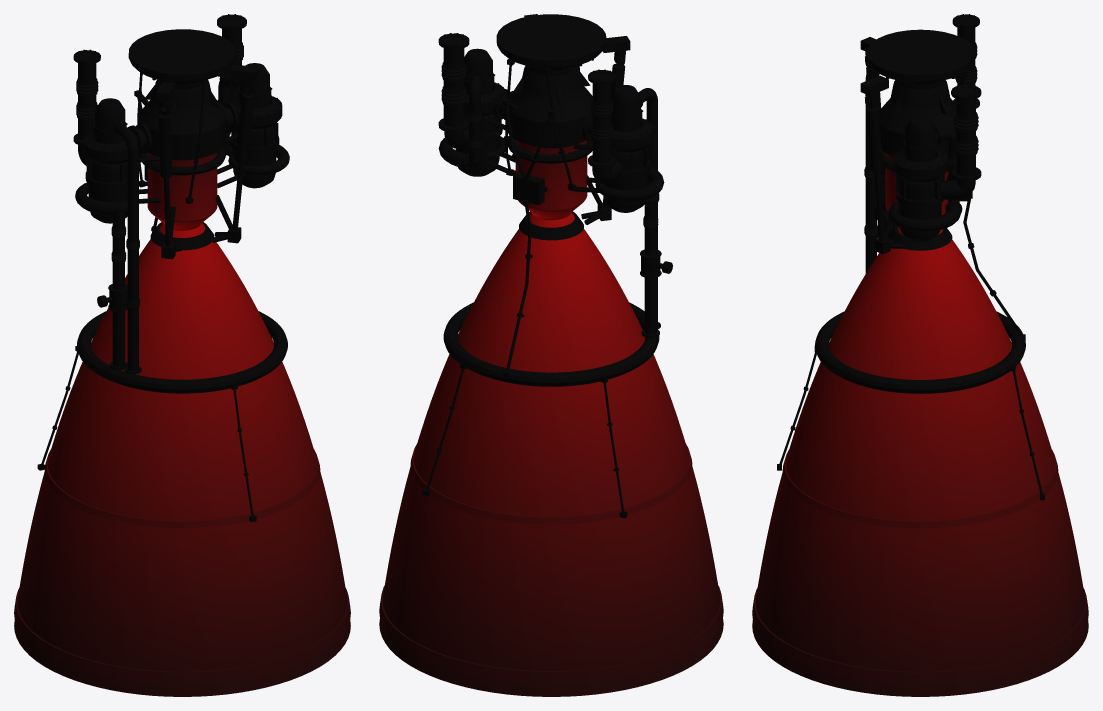
File: eng_methalox_vacuum.fbx
3 views of the same model, side by side, from view 1: azimuth 30°, elevation 25°; view 2: azimuth 150°, elevation 25°; view 3: azimuth 270°, elevation 25° (orthographic). The views are drawn at different scales.
Parts seen in each view (by area): view 1: eng_methalox_vacuum_LOD0; view 2: eng_methalox_vacuum_LOD0; view 3: eng_methalox_vacuum_LOD0.
Boxes of the visible parts, x1,y1,x2,y2 form: eng_methalox_vacuum_LOD0: (14,14,350,696); eng_methalox_vacuum_LOD0: (379,14,723,696); eng_methalox_vacuum_LOD0: (752,14,1088,696).
Size of what is drawn, in the model's own units: 2.5 by 4.7 by 2.5.
